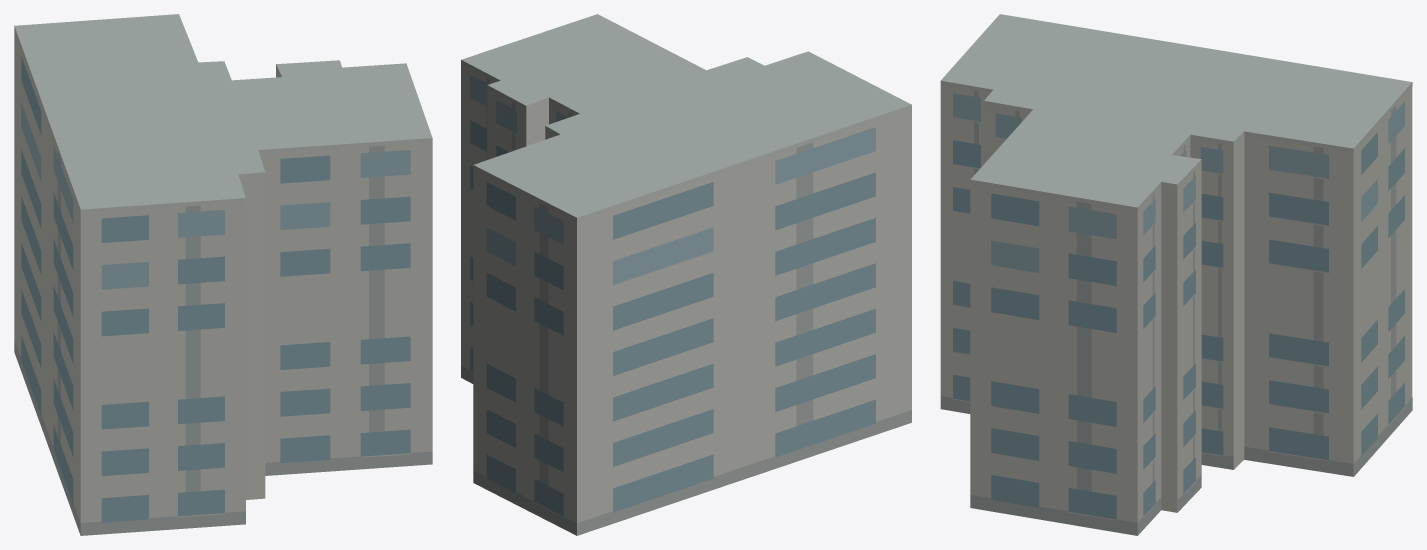
Rendered from survey-upis-32880033.glb.
3 views of the same model, side by side, from view 1: azimuth 30°, elevation 25°; view 2: azimuth 150°, elevation 25°; view 3: azimuth 270°, elevation 25° (orthographic). The views are drawn at different scales.
Parts seen in each view (by area): view 1: survey-upis-32880033.tmp; view 2: survey-upis-32880033.tmp; view 3: survey-upis-32880033.tmp.
Part boxes in pixels (<box>): survey-upis-32880033.tmp: <box>14,14,432,535</box>; survey-upis-32880033.tmp: <box>461,14,911,535</box>; survey-upis-32880033.tmp: <box>940,14,1412,535</box>.
Bounding box in the file's own units: 24.03 × 19 × 24.75.
